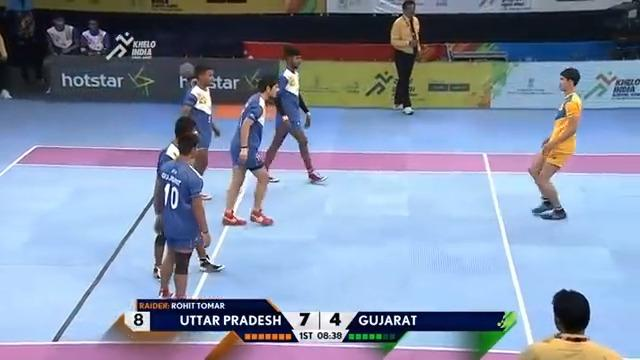Player: (153, 131, 220, 299), (220, 74, 281, 228), (263, 44, 327, 185), (168, 58, 221, 191), (162, 114, 186, 194)
Raider: (525, 64, 585, 222)
referee: (518, 288, 622, 359), (389, 0, 423, 115)
